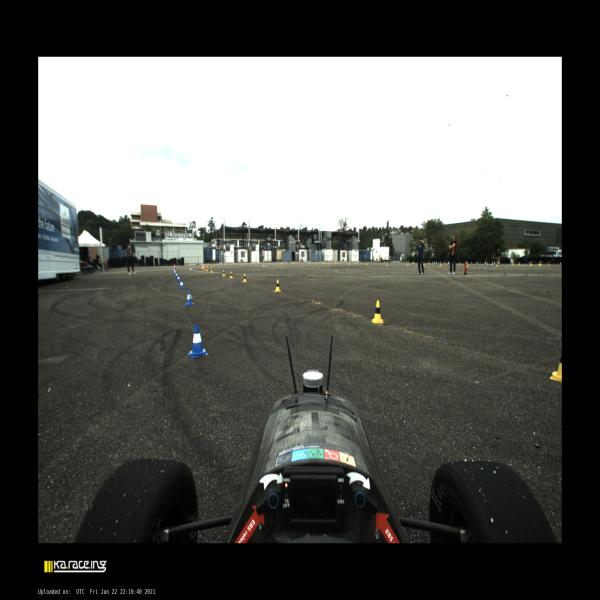blue_cone: (188, 323, 208, 358), (185, 290, 194, 306), (179, 279, 184, 289), (177, 275, 180, 282), (176, 272, 178, 278), (448, 261, 450, 266), (476, 262, 478, 265), (194, 264, 196, 267), (272, 261, 274, 264), (484, 262, 486, 265), (498, 262, 500, 265), (178, 266, 180, 268), (334, 260, 335, 264), (405, 261, 407, 263), (470, 262, 472, 264), (436, 262, 437, 265), (320, 261, 321, 264), (290, 261, 291, 264), (304, 261, 305, 264), (359, 261, 360, 264), (371, 261, 372, 264), (384, 261, 385, 264), (399, 261, 400, 264), (401, 261, 402, 264), (434, 261, 435, 264), (494, 262, 495, 265), (560, 262, 561, 265), (186, 265, 187, 267)
large_orange_cone: (174, 264, 176, 270), (202, 263, 204, 269)
yellow_cone: (371, 300, 384, 324), (275, 279, 281, 292), (242, 274, 247, 282), (229, 271, 233, 279), (222, 270, 226, 276), (210, 267, 214, 273), (206, 266, 209, 272), (511, 262, 514, 266), (439, 262, 442, 266), (539, 262, 542, 266), (530, 261, 532, 266), (423, 261, 425, 266), (496, 262, 498, 266), (224, 262, 226, 266), (407, 262, 409, 266), (413, 260, 415, 264), (491, 262, 493, 265), (366, 262, 368, 265), (207, 264, 209, 267), (241, 262, 243, 265), (292, 261, 294, 264), (428, 261, 430, 264), (444, 261, 446, 264), (518, 262, 520, 265), (548, 262, 550, 265), (467, 262, 468, 267), (204, 266, 205, 270), (387, 262, 388, 265), (335, 261, 336, 264), (323, 261, 324, 264), (309, 261, 310, 264), (213, 263, 214, 266), (255, 262, 256, 265), (349, 262, 350, 265), (432, 261, 433, 264), (487, 262, 488, 265), (269, 262, 270, 264), (281, 262, 282, 264), (459, 262, 460, 264)
